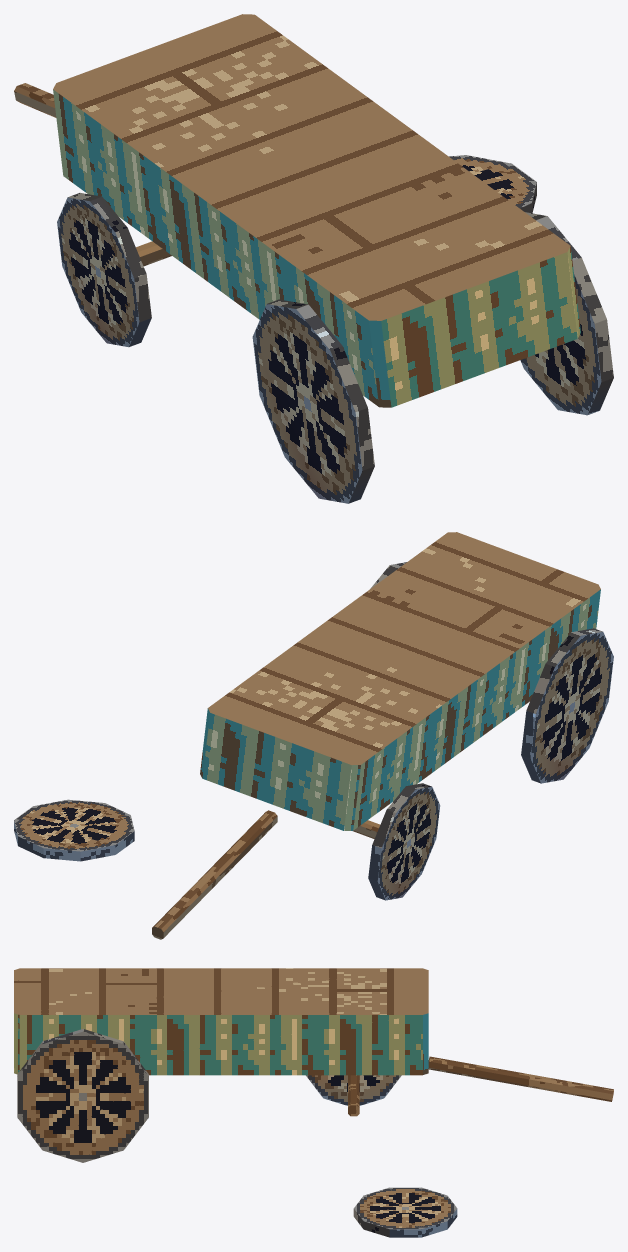
Rendered from wprop.wagon__broken.glb.
The picture shows the model from 3 angles, top to bottom: view 1: azimuth 30°, elevation 25°; view 2: azimuth 150°, elevation 25°; view 3: azimuth 270°, elevation 25°; orthographic projection. The views are drawn at different scales.
Visible parts, largest first — view 1: kit_box, kit_wheels, kit_fallen_wheel, kit_tongue; view 2: kit_box, kit_wheels, kit_fallen_wheel, kit_tongue; view 3: kit_box, kit_wheels, kit_fallen_wheel, kit_tongue, kit_axles.
Part boxes in pixels (x1=…): kit_box: x1=53, y1=14, x2=580, y2=407; kit_wheels: x1=57, y1=193, x2=613, y2=503; kit_fallen_wheel: x1=449, y1=155, x2=536, y2=213; kit_tongue: x1=14, y1=83, x2=56, y2=117; kit_box: x1=200, y1=532, x2=600, y2=830; kit_wheels: x1=368, y1=562, x2=613, y2=900; kit_fallen_wheel: x1=14, y1=799, x2=134, y2=861; kit_tongue: x1=152, y1=810, x2=277, y2=939; kit_box: x1=14, y1=968, x2=428, y2=1075; kit_wheels: x1=17, y1=1029, x2=401, y2=1162; kit_fallen_wheel: x1=353, y1=1187, x2=457, y2=1237; kit_tongue: x1=428, y1=1056, x2=613, y2=1101; kit_axles: x1=348, y1=1075, x2=359, y2=1116.
Size of the model in its own units: 3.08 by 1.47 by 5.21.
5 materials, 5 textured.
